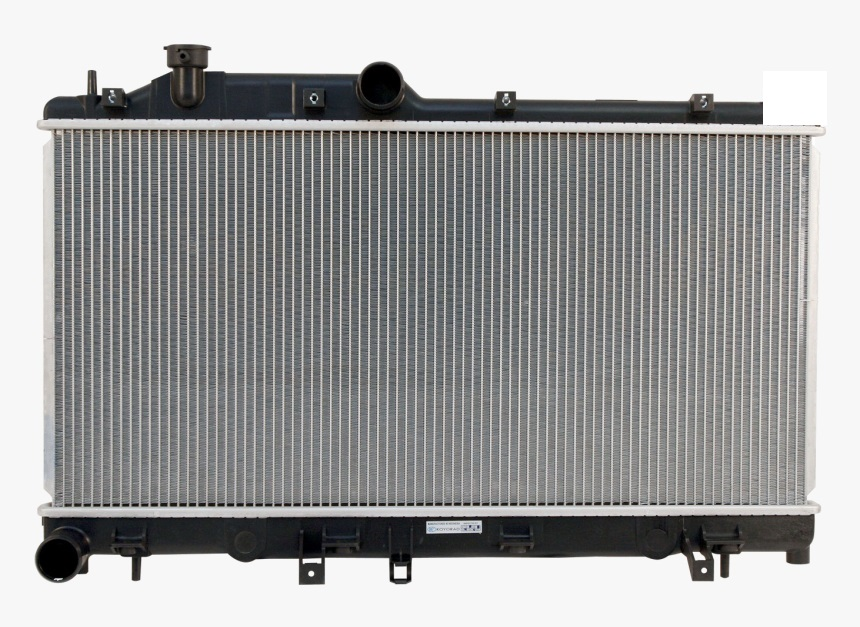c1: (86, 67, 129, 114)
c10: (229, 525, 263, 559)
c11: (300, 522, 365, 584)
c12: (388, 524, 413, 585)
c13: (497, 524, 536, 556)
c14: (680, 525, 746, 582)
c2: (162, 42, 215, 113)
c3: (302, 84, 328, 113)
c4: (354, 59, 407, 115)
c5: (494, 87, 519, 115)
c6: (690, 92, 716, 115)
c8: (32, 528, 90, 585)
c9: (108, 523, 149, 581)
